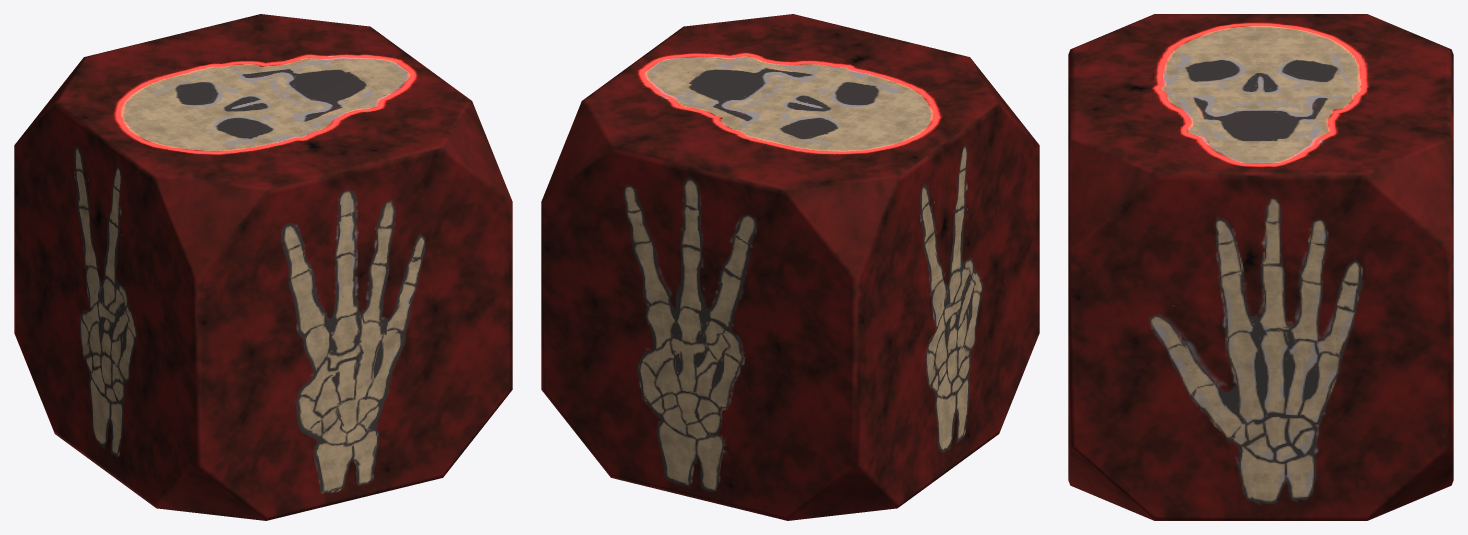
Rendered from omen_dice.glb.
The picture shows the model from 3 angles, left to right: view 1: azimuth 30°, elevation 25°; view 2: azimuth 150°, elevation 25°; view 3: azimuth 270°, elevation 25°; orthographic projection. The views are drawn at different scales.
Visible parts, largest first — view 1: D6_low; view 2: D6_low; view 3: D6_low.
Part boxes in pixels (left/top/right/bottom): D6_low: left=14, top=14, right=512, bottom=520; D6_low: left=541, top=14, right=1039, bottom=520; D6_low: left=1068, top=14, right=1453, bottom=520.
Bounding box in the file's own units: 104 × 104 × 104.
Materials: 1 (1 with a texture image).
